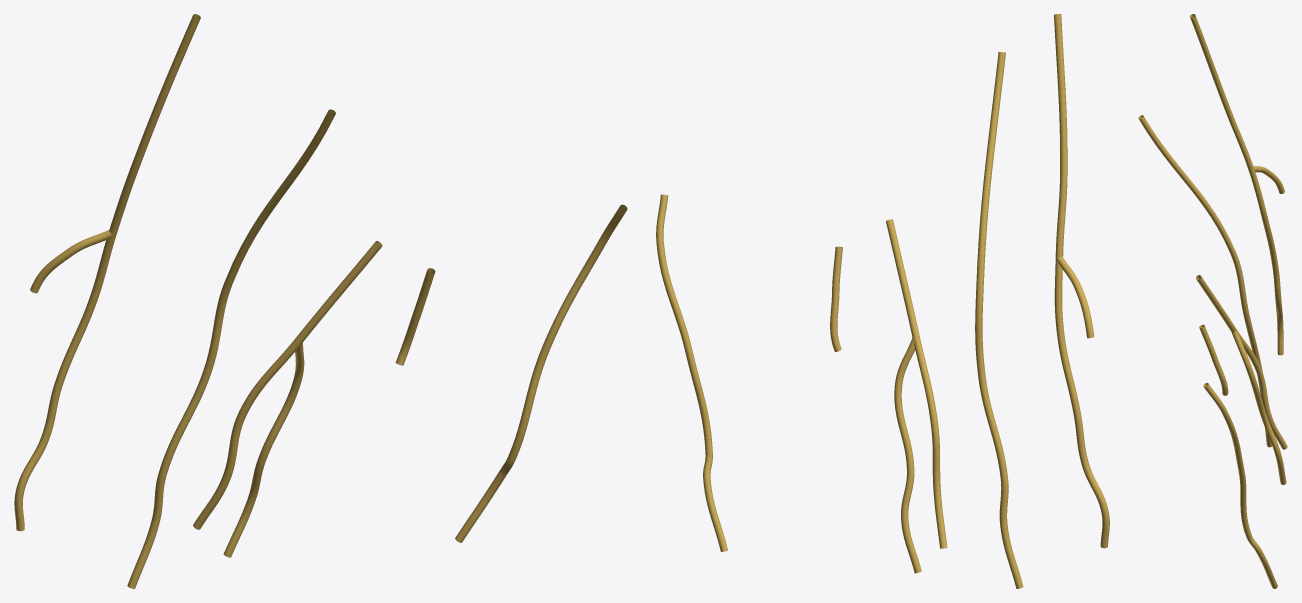
3 views of the same model, side by side, from view 1: azimuth 30°, elevation 25°; view 2: azimuth 150°, elevation 25°; view 3: azimuth 270°, elevation 25° (orthographic). The views are drawn at different scales.
Parts seen in each view (by area): view 1: 右侧腓浅神经趾背神经; view 2: 右侧腓浅神经趾背神经; view 3: 右侧腓浅神经趾背神经.
Boxes of the visible parts, x1,y1,x2,y2 form: 右侧腓浅神经趾背神经: (14, 14, 627, 588); 右侧腓浅神经趾背神经: (656, 14, 1109, 588); 右侧腓浅神经趾背神经: (1138, 14, 1287, 588).
Size of the model in its own units: 0.1127 by 0.1245 by 0.0365.
